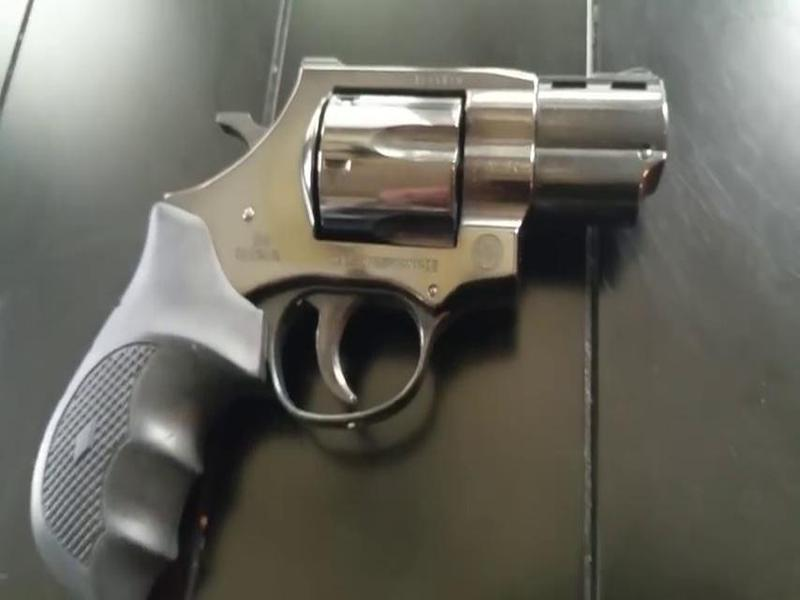Revolver: (50, 44, 674, 561)
